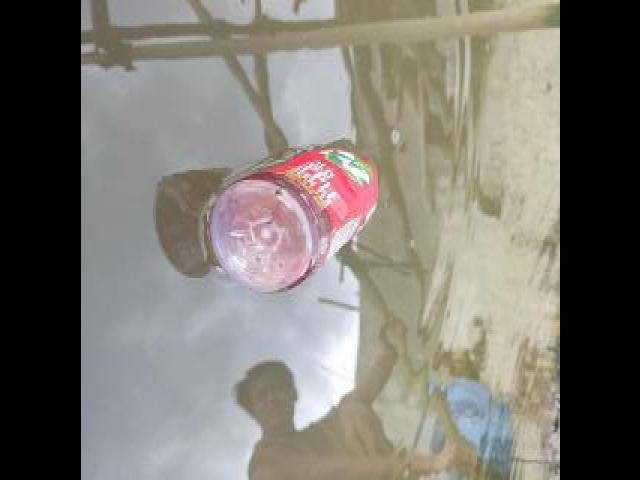Bottle: (202, 129, 386, 305)
